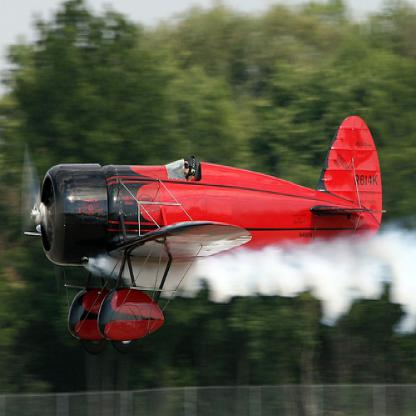aeroplane: (18, 113, 386, 354)
